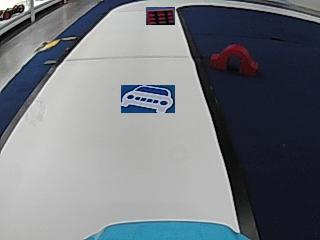bridge: (212, 44, 257, 74)
